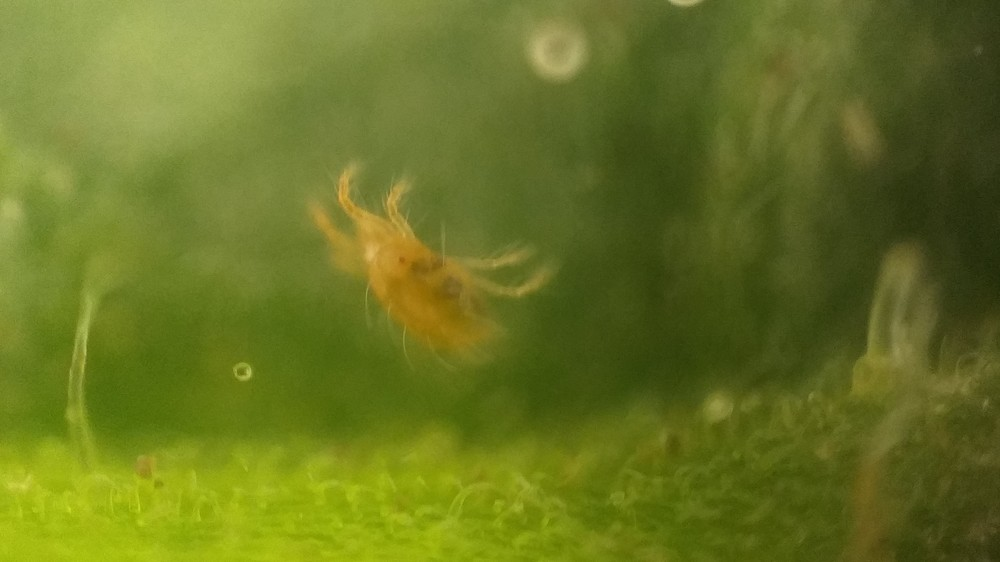Aracnido Rojo: (290, 156, 581, 392)
